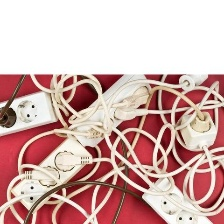three_eye_plug: (9, 134, 93, 217), (66, 70, 153, 146), (142, 173, 220, 224), (0, 86, 60, 139), (175, 104, 219, 154)
